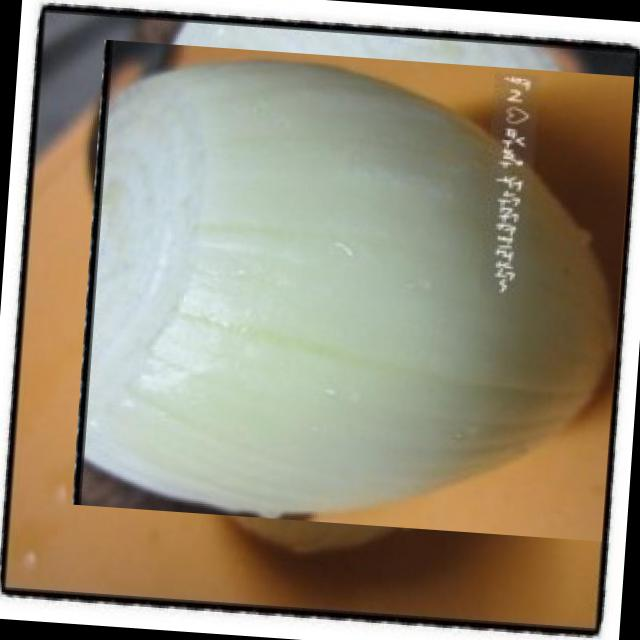Onion: (86, 24, 620, 556)
